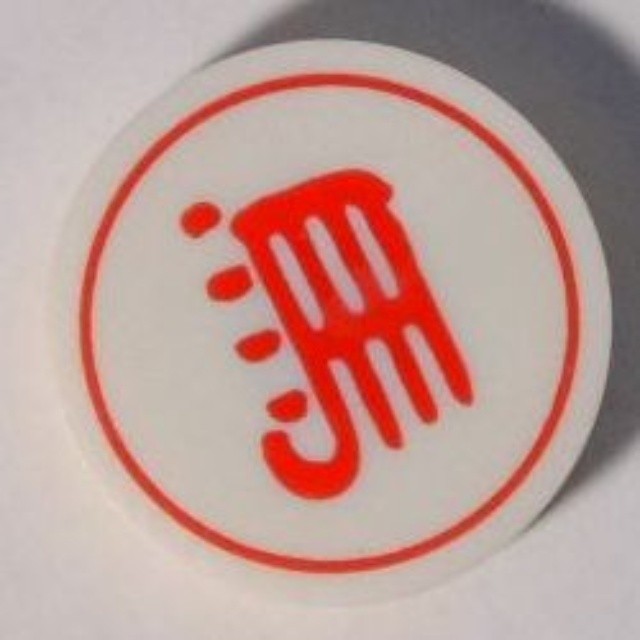red_ma: (50, 33, 623, 596)
